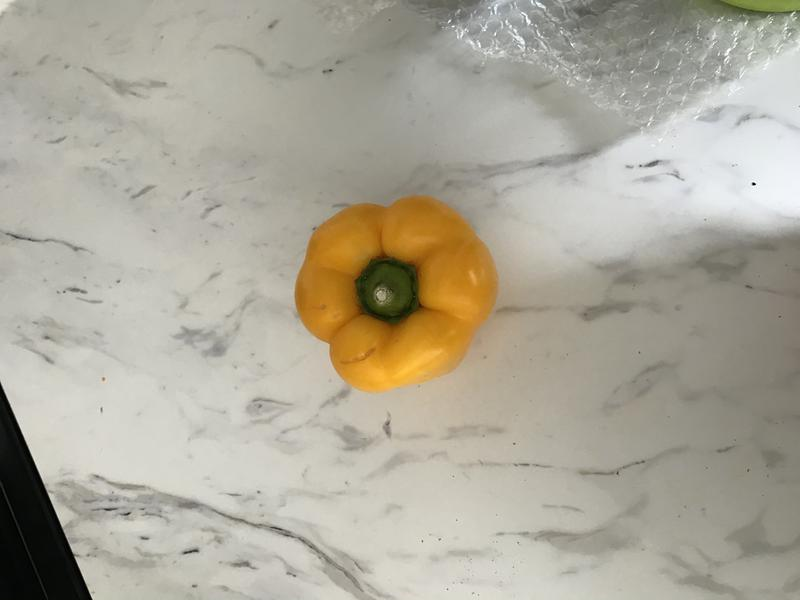yellow_pepper: (287, 186, 508, 398)
